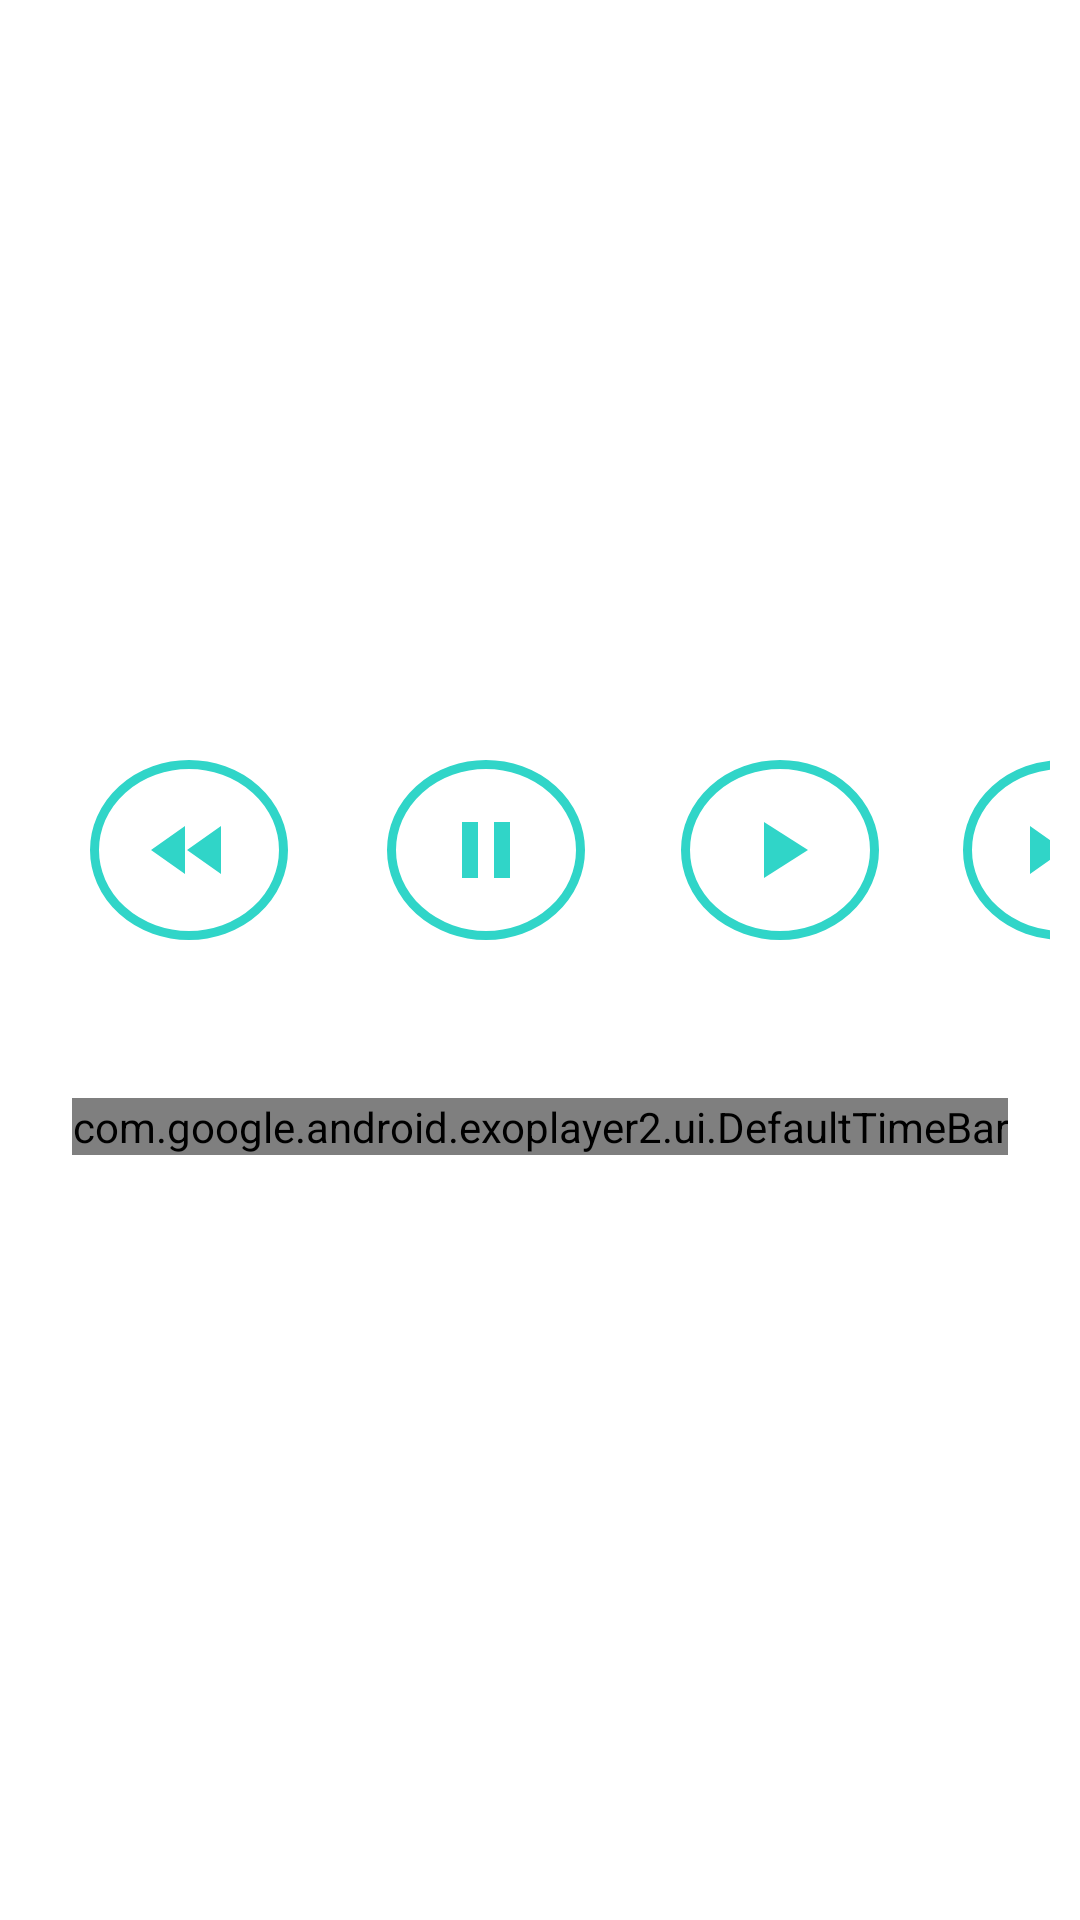

Where to tap for icons on this 1080*1920 app screen, as (x=x, y=y):
exo pause: (x=486, y=850)
exo play: (x=780, y=850)
exo rewind: (x=189, y=850)
